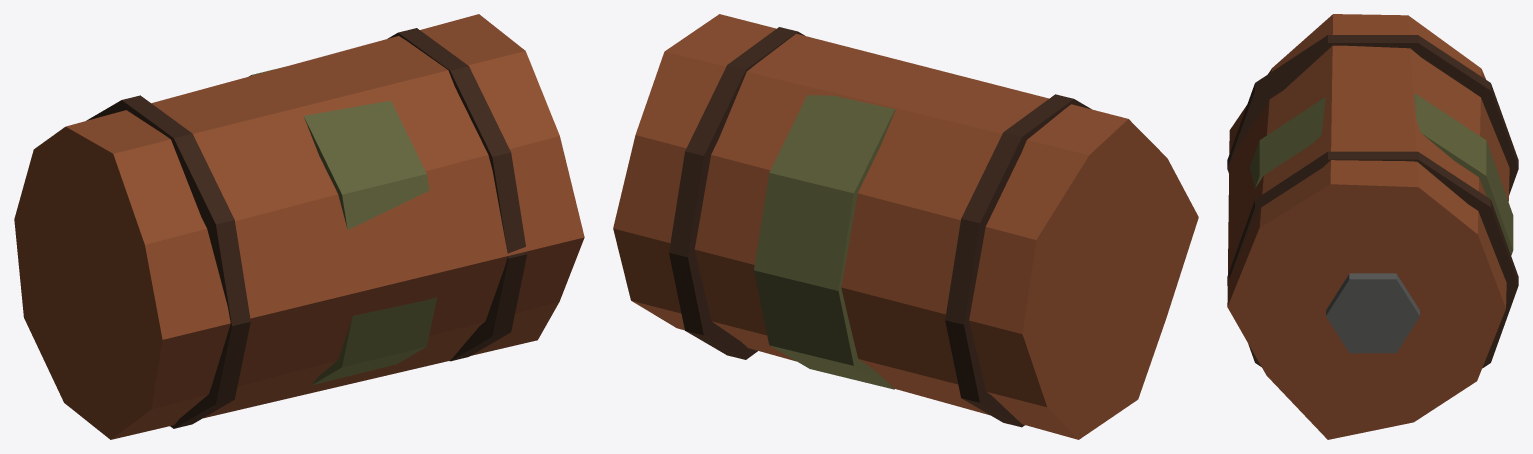
File: barrel.glb
3 renders of one model, left to right at view 1: azimuth 30°, elevation 25°; view 2: azimuth 150°, elevation 25°; view 3: azimuth 270°, elevation 25°, orthographic. The views are drawn at different scales.
Parts seen in each view (by area): view 1: barrel; view 2: barrel; view 3: barrel.
Boxes of the visible parts, bbox=[...] form: barrel: bbox=[14, 14, 584, 439]; barrel: bbox=[613, 14, 1198, 439]; barrel: bbox=[1227, 14, 1518, 439].
Bounding box in the file's own units: 0.9277 × 0.5899 × 0.62.
